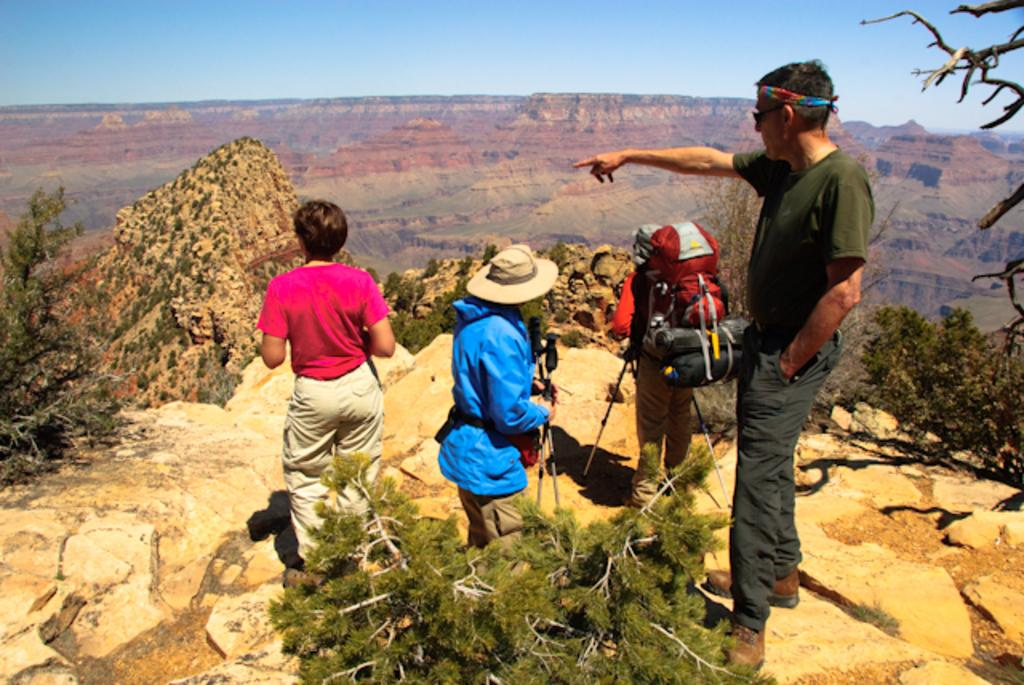Hat: (465, 246, 558, 308)
